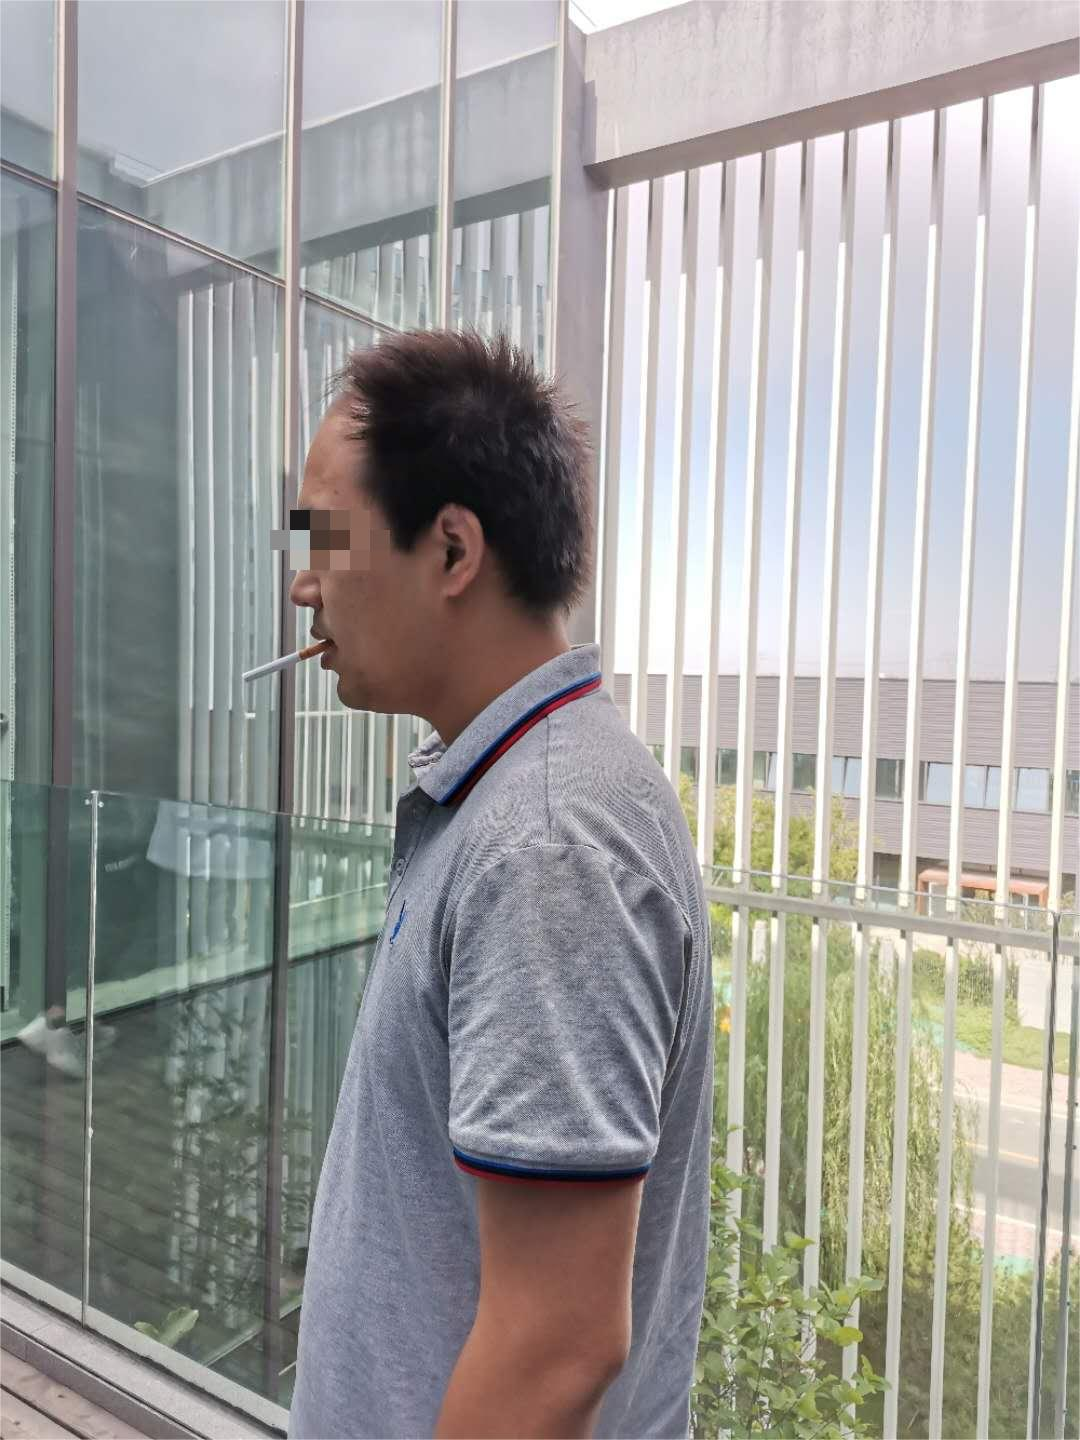smoke: (243, 629, 331, 688)
